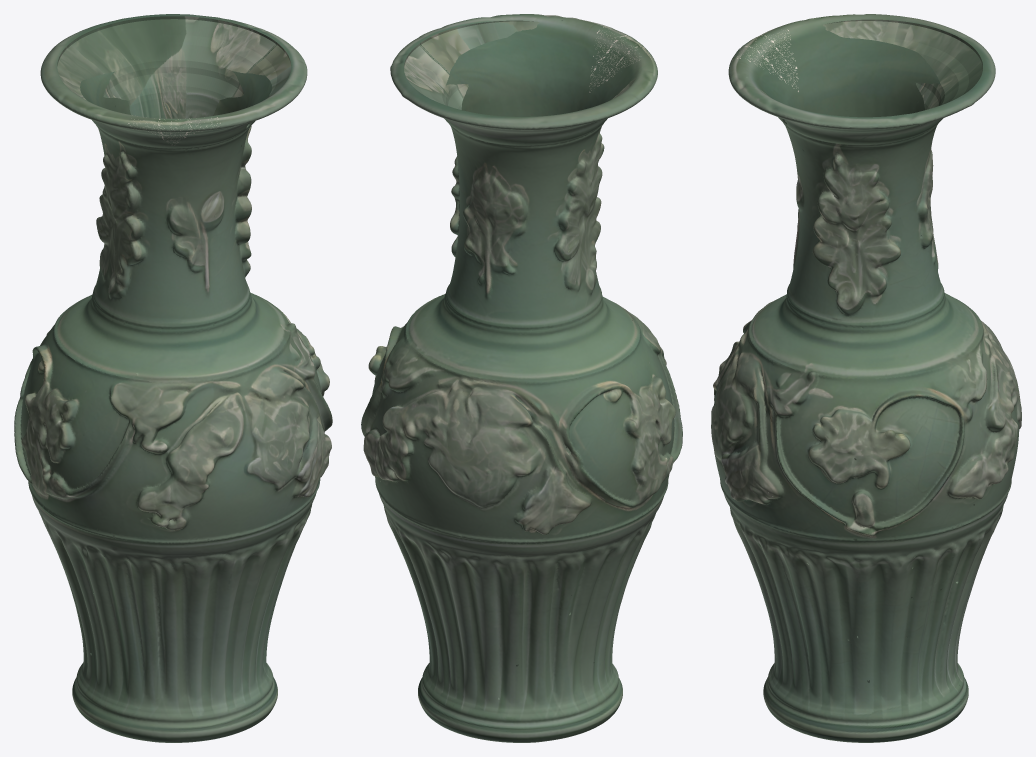
Rendered from rim-repair-balanced.glb.
3 views of the same model, side by side, from view 1: azimuth 30°, elevation 25°; view 2: azimuth 150°, elevation 25°; view 3: azimuth 270°, elevation 25° (orthographic).
Parts seen in each view (by area): view 1: Vase_Damaged, Rim_Patch_Textured; view 2: Vase_Damaged, Rim_Patch_Textured; view 3: Vase_Damaged, Rim_Patch_Textured.
Part boxes in pixels (left/top/right/bottom): Vase_Damaged: left=14, top=14, right=332, bottom=742; Rim_Patch_Textured: left=128, top=115, right=220, bottom=146; Vase_Damaged: left=361, top=14, right=682, bottom=742; Rim_Patch_Textured: left=588, top=26, right=655, bottom=92; Vase_Damaged: left=711, top=14, right=1021, bottom=742; Rim_Patch_Textured: left=731, top=26, right=799, bottom=91.
Size of the model in its own units: 0.4562 by 1 by 0.442.
3 materials, 1 textured.
